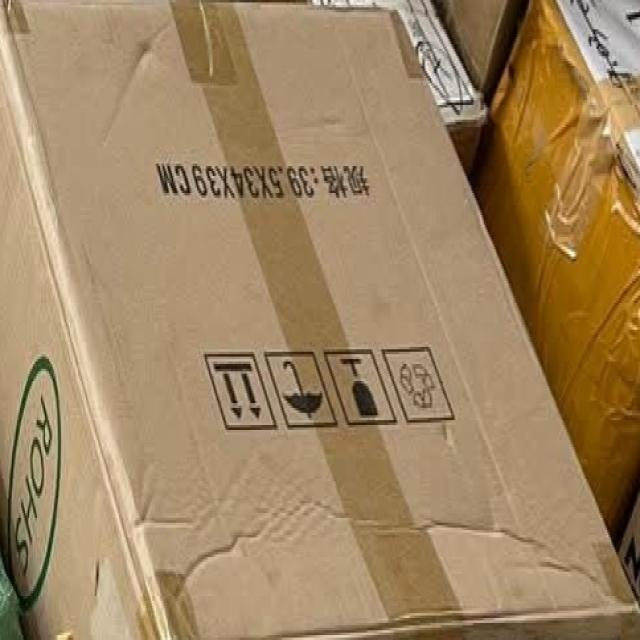carton_box: (0, 0, 640, 640)
fragile_label: (324, 339, 392, 437)
keep_dry_label: (266, 354, 332, 444)
package_damage: (545, 15, 640, 212), (85, 552, 124, 611)
this_side_up_label: (199, 346, 273, 439)
